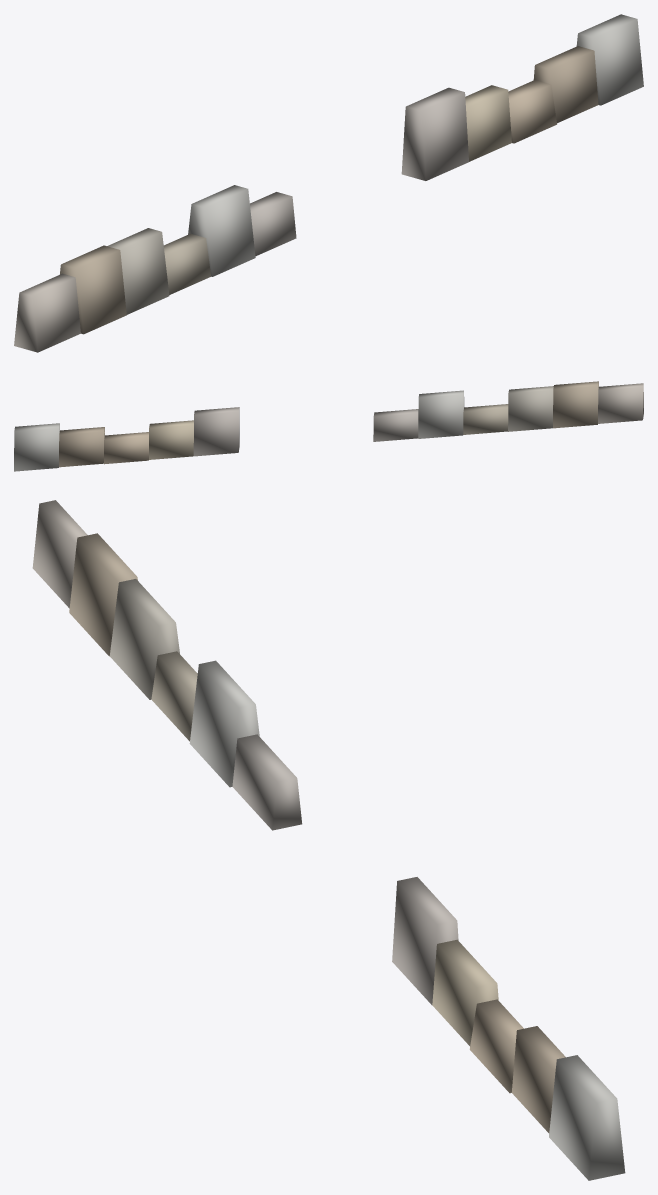
Rendered from farm_0_22_collision.glb.
3 renders of one model, top to bottom at view 1: azimuth 30°, elevation 25°; view 2: azimuth 150°, elevation 25°; view 3: azimuth 270°, elevation 25°, orthographic. The views are drawn at different scales.
Parts seen in each view (by area): view 1: geometry_0; view 2: geometry_0; view 3: geometry_0.
Part boxes in pixels (x1,y1,x2,y2): geometry_0: (14,14,643,352); geometry_0: (14,381,643,471); geometry_0: (32,500,625,1180).
Bounding box in the file's own units: 20.18 × 3.86 × 10.44.
